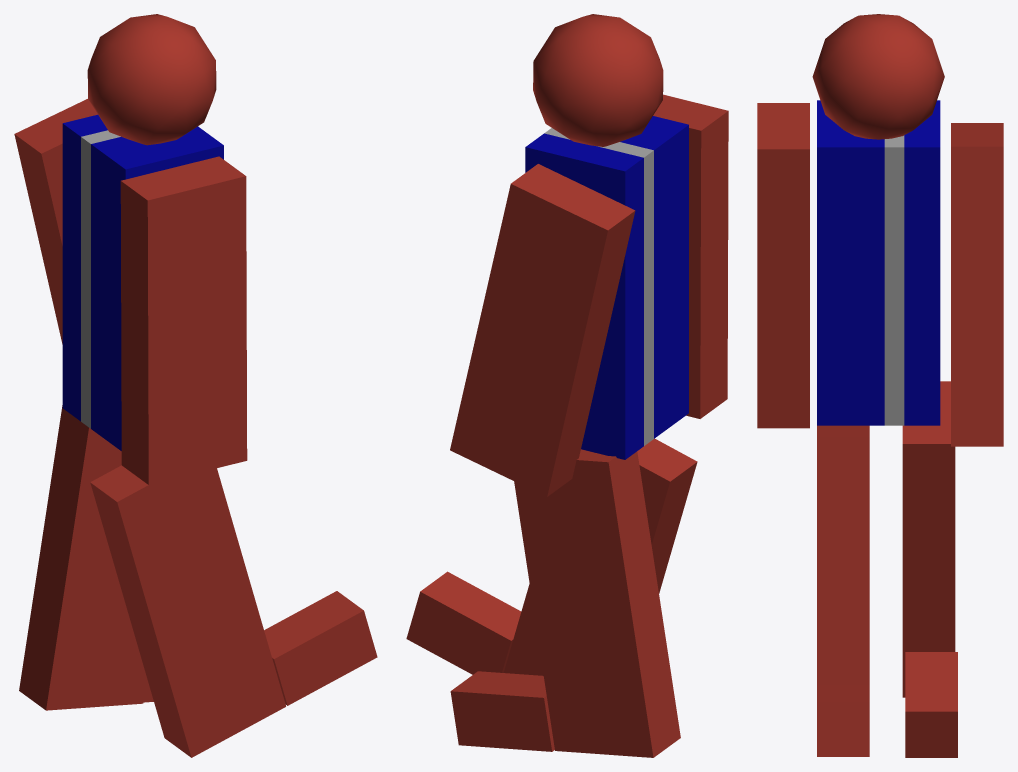
The model's file is player_000012.obj.
3 renders of one model, left to right at view 1: azimuth 30°, elevation 25°; view 2: azimuth 150°, elevation 25°; view 3: azimuth 270°, elevation 25°, orthographic. The views are drawn at different scales.
Parts seen in each view (by area): view 1: Cube.005, Cube.001, Cube.002, Cube, Icosphere, Cube.003, Cube.006; view 2: Cube.006, Cube.002, Cube, Icosphere, Cube.005, Cube.003, Cube.004, Cube.001; view 3: Cube, Cube.005, Cube.006, Cube.001, Icosphere, Cube.002, Cube.004, Cube.003.
Boxes of the visible parts, x1,y1,x2,y2 form: Cube.005: (120,156,247,484); Cube.001: (90,465,285,757); Cube.002: (19,405,146,710); Cube: (62,114,223,450); Icosphere: (87,14,216,145); Cube.003: (264,591,377,705); Cube.006: (14,99,97,344); Cube.006: (450,164,635,496); Cube.002: (514,449,680,757); Cube: (525,116,688,459); Icosphere: (533,14,663,146); Cube.005: (653,94,728,418); Cube.003: (406,571,521,674); Cube.004: (450,671,554,751); Cube.001: (503,438,697,675); Cube: (817,100,940,425); Cube.005: (757,103,809,428); Cube.006: (951,123,1003,446); Cube.001: (817,425,869,684); Icosphere: (812,14,944,139); Cube.002: (902,381,955,697); Cube.004: (905,652,957,757); Cube.003: (817,685,869,756).
Bounding box in the file's own units: 1.2 × 2.86 × 0.9137.
